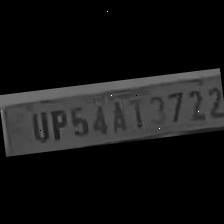2: (182, 85, 206, 121), (202, 82, 224, 119)
3: (144, 90, 166, 127)
4: (86, 99, 109, 137)
5: (64, 102, 90, 140)
7: (162, 86, 186, 124)
A: (104, 95, 128, 134)
P: (44, 105, 68, 142)
T: (124, 92, 146, 132)
U: (24, 108, 50, 144)
